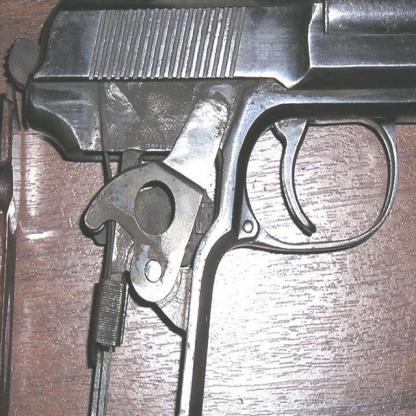gun: (20, 0, 416, 415)
